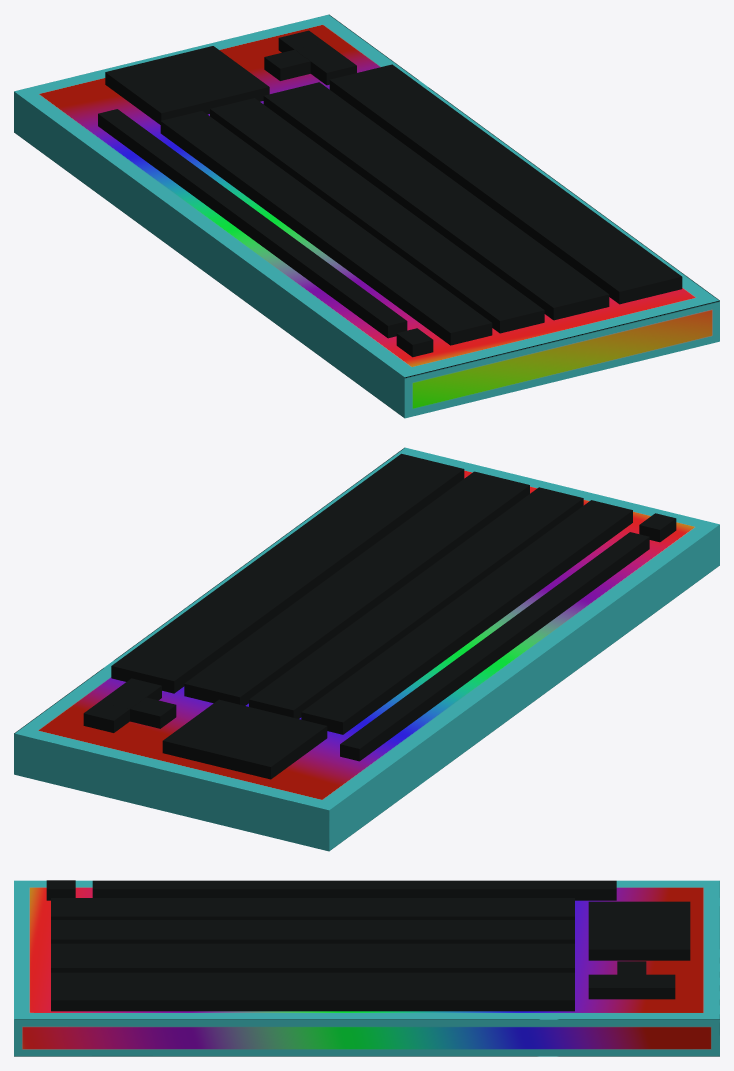
File: keyboardDiamond.fbx
3 views of the same model, one above another, from view 1: azimuth 30°, elevation 25°; view 2: azimuth 150°, elevation 25°; view 3: azimuth 270°, elevation 25° (orthographic). The views are drawn at different scales.
Visible parts, largest first — view 1: Keys, Board; view 2: Keys, Board; view 3: Keys, Board.
Part boxes in pixels (bbox=[...]): Keys: bbox=[98, 30, 682, 357]; Board: bbox=[14, 14, 719, 418]; Keys: bbox=[83, 453, 676, 779]; Board: bbox=[14, 447, 719, 851]; Keys: bbox=[46, 880, 690, 1011]; Board: bbox=[14, 880, 719, 1056].
Size of the model in its own units: 0.48 by 1.03 by 0.0787.
